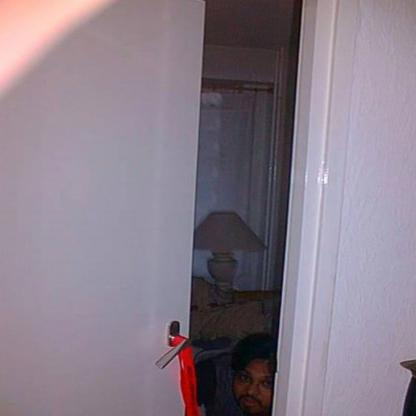door: (0, 0, 184, 415)
lever: (154, 330, 188, 374)
